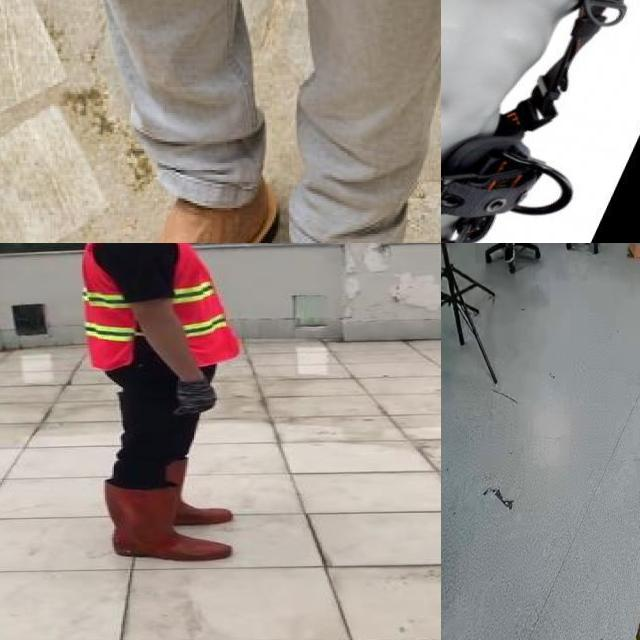Harness: (441, 0, 627, 243)
Sandals: (85, 131, 281, 243)
boots: (103, 476, 237, 562), (157, 454, 233, 525)
hand_glove: (166, 377, 220, 417)
person: (68, 243, 258, 562)
shoes: (498, 243, 518, 266)
vest: (80, 243, 240, 371)
